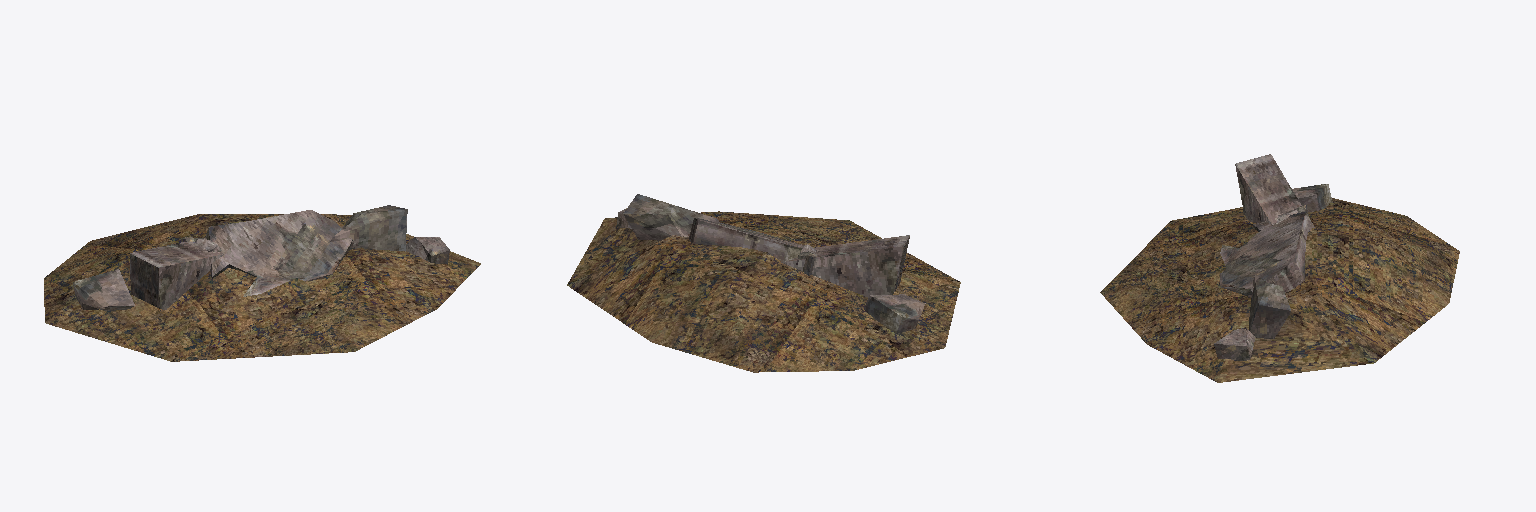
3 views of the same model, side by side, from view 1: azimuth 30°, elevation 25°; view 2: azimuth 150°, elevation 25°; view 3: azimuth 270°, elevation 25° (orthographic).
Parts seen in each view (by area): view 1: Node 0; view 2: Node 0; view 3: Node 0.
Part boxes in pixels (x1,y1,x2,y2): Node 0: (44, 205, 480, 361); Node 0: (567, 194, 960, 372); Node 0: (1100, 154, 1459, 382).
Bounding box in the file's own units: 10.39 × 1.95 × 8.34.
2 materials, 2 textured.